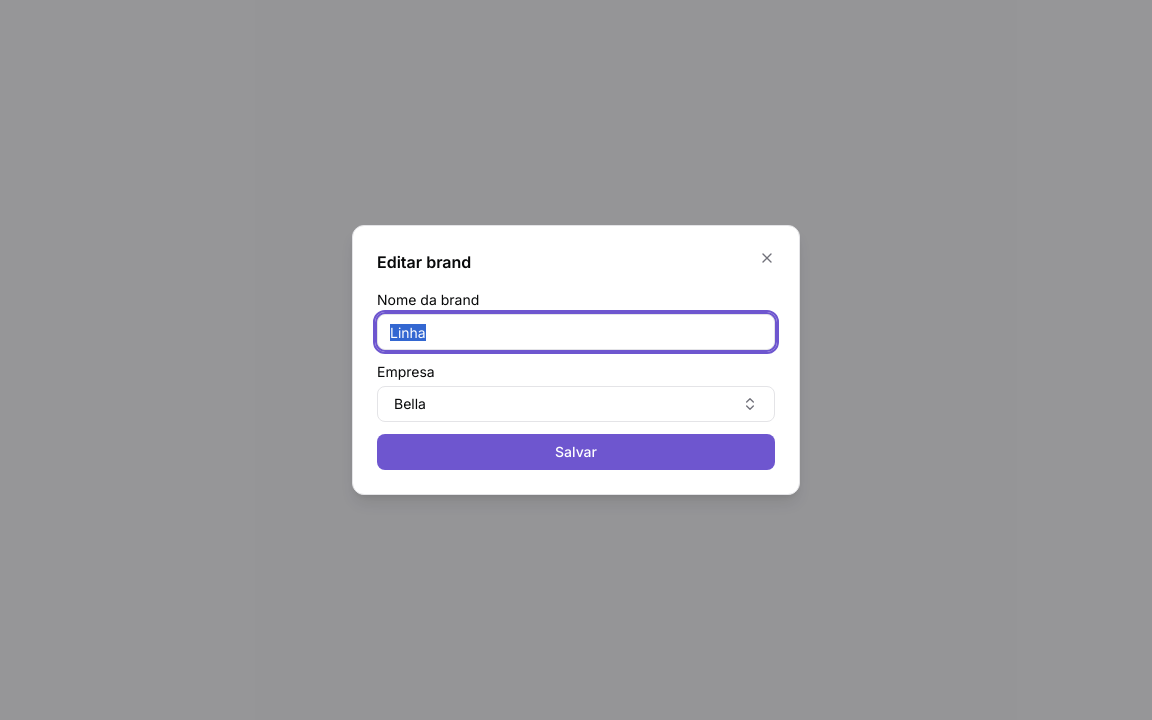
BrandFormDialog › shows the 422 company error
Click the button "Salvar".
click(576, 452)  # box [377, 434, 775, 470]
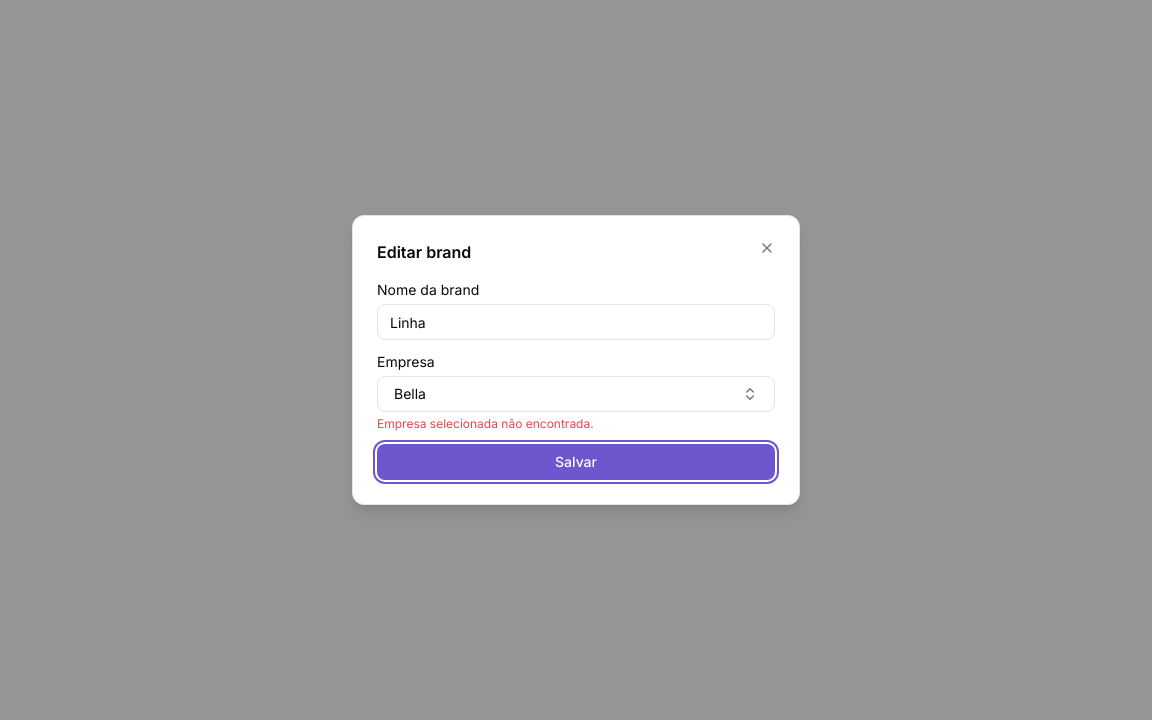
Expected: the text "Empresa selecionada não encontrada." is shown, [377, 416, 594, 431]
